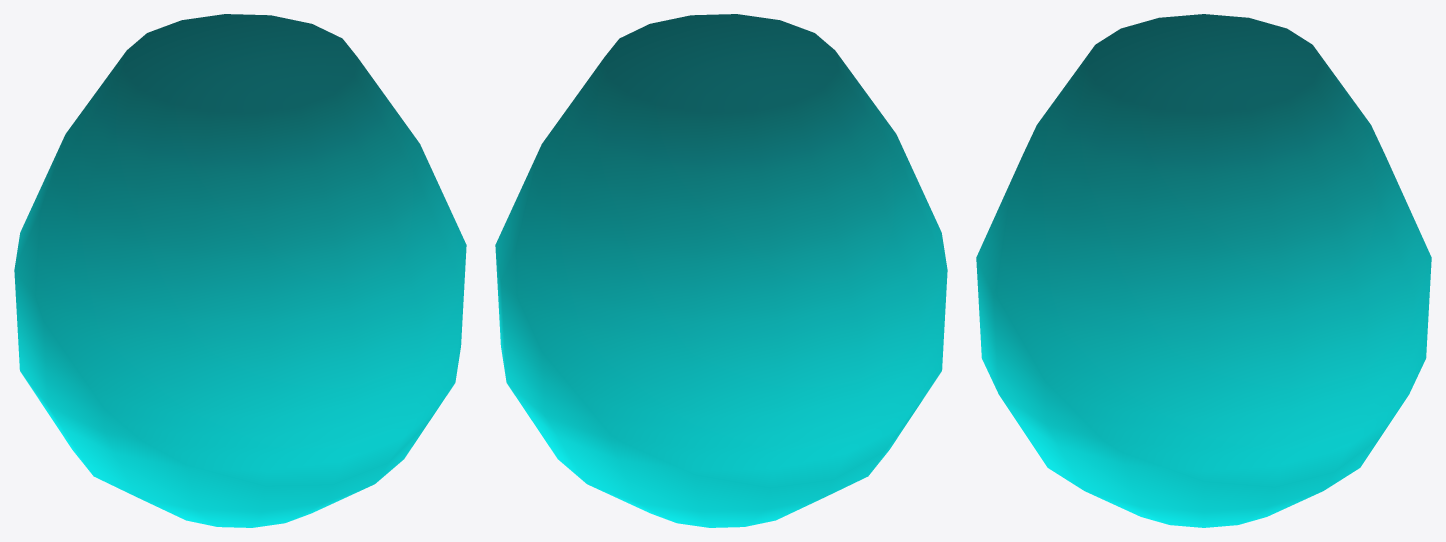
The model's file is WaterDrop_70.glb.
The picture shows the model from 3 angles, left to right: view 1: azimuth 30°, elevation 25°; view 2: azimuth 150°, elevation 25°; view 3: azimuth 270°, elevation 25°; orthographic projection.
Parts seen in each view (by area): view 1: WaterDrop_70; view 2: WaterDrop_70; view 3: WaterDrop_70.
Part boxes in pixels (x1,y1,x2,y2): WaterDrop_70: [14, 14, 466, 527]; WaterDrop_70: [495, 14, 947, 527]; WaterDrop_70: [976, 14, 1431, 527].
Bounding box in the file's own units: 0.5885 × 0.623 × 0.5885.
1 material, 1 textured.
